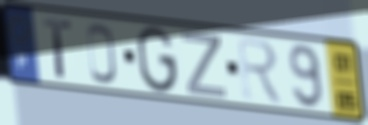0: (85, 23, 119, 86)
9: (286, 42, 326, 111)
G: (135, 24, 179, 96)
R: (234, 35, 286, 108)
T: (40, 16, 74, 81)
Z: (180, 29, 230, 101)
